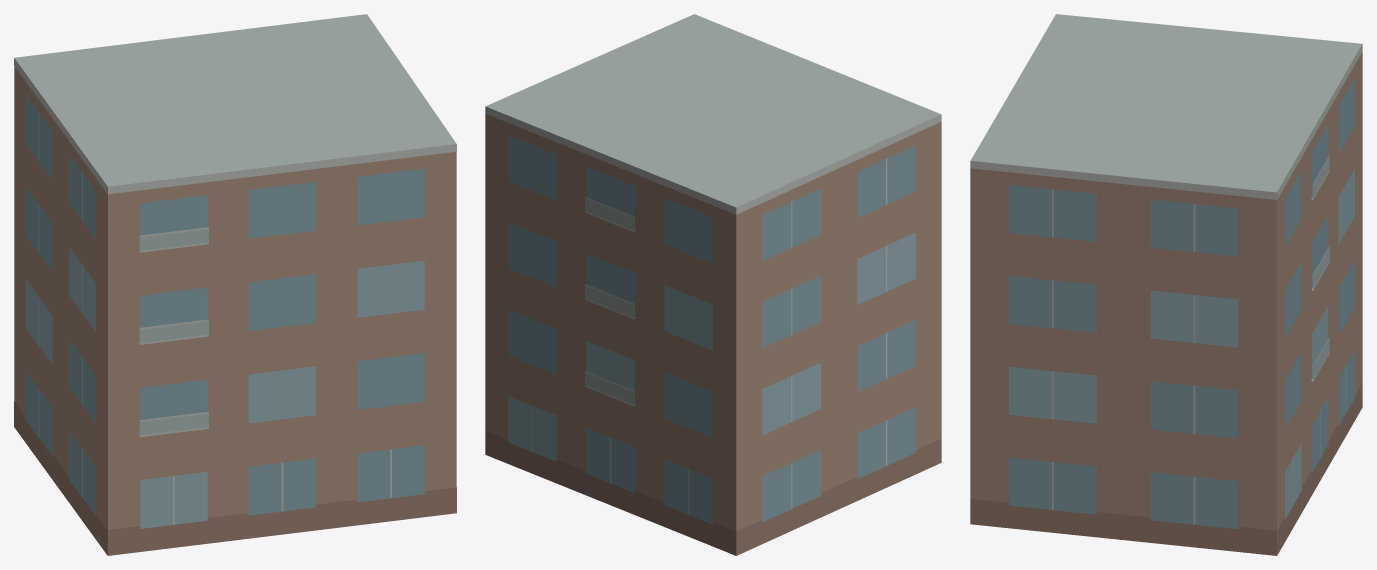
The model's file is survey-upis-32624934.glb.
3 views of the same model, side by side, from view 1: azimuth 30°, elevation 25°; view 2: azimuth 150°, elevation 25°; view 3: azimuth 270°, elevation 25° (orthographic). The views are drawn at different scales.
Visible parts, largest first — view 1: survey-upis-32624934.tmp; view 2: survey-upis-32624934.tmp; view 3: survey-upis-32624934.tmp.
Boxes of the visible parts, x1,y1,x2,y2 form: survey-upis-32624934.tmp: [14, 14, 456, 555]; survey-upis-32624934.tmp: [485, 14, 941, 555]; survey-upis-32624934.tmp: [970, 14, 1362, 555].
Bounding box in the file's own units: 12.44 × 11.8 × 11.55.
